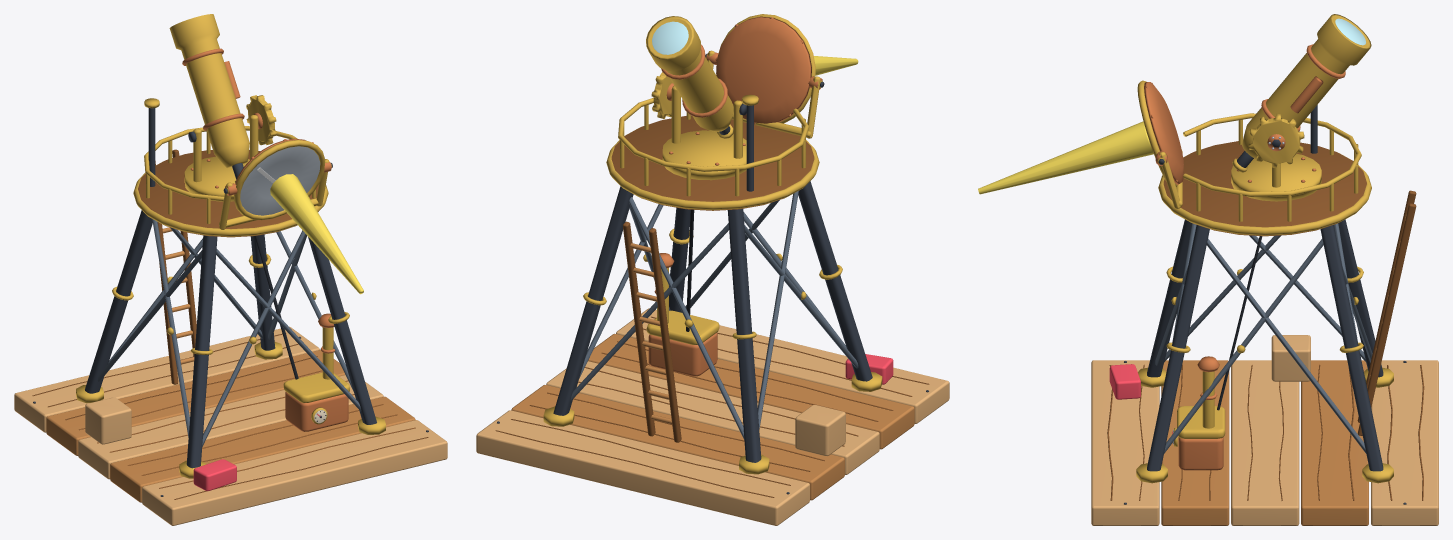
The model's file is SunMirrorTower_T2.fbx.
The picture shows the model from 3 angles, left to right: view 1: azimuth 30°, elevation 25°; view 2: azimuth 150°, elevation 25°; view 3: azimuth 270°, elevation 25°; orthographic projection. The views are drawn at different scales.
Parts seen in each view (by area): view 1: SunMirrorTowerT2Deck, SunMirrorTowerT2Tower, SunMirrorTowerT2Telescope, SunMirrorTowerT2Platform, SunMirrorTowerT2Braces, SunMirrorTowerT2Mirror, SunMirrorTowerT2Engine, SunMirrorTowerT2BeamGlow, SunMirrorTowerT2MirrorFork, SunMirrorTowerT2TelescopeGear; view 2: SunMirrorTowerT2Deck, SunMirrorTowerT2Tower, SunMirrorTowerT2Platform, SunMirrorTowerT2Telescope, SunMirrorTowerT2Mirror, SunMirrorTowerT2Braces, SunMirrorTowerT2Engine, SunMirrorTowerT2MirrorFork, SunMirrorTowerT2TelescopeGlow, SunMirrorTowerT2TelescopeGear, SunMirrorTowerT2BeamGlow; view 3: SunMirrorTowerT2Deck, SunMirrorTowerT2Tower, SunMirrorTowerT2Platform, SunMirrorTowerT2Telescope, SunMirrorTowerT2Braces, SunMirrorTowerT2Engine, SunMirrorTowerT2BeamGlow, SunMirrorTowerT2Mirror, SunMirrorTowerT2TelescopeGear, SunMirrorTowerT2MirrorFork.
Boxes of the visible parts, bbox=[...] form: SunMirrorTowerT2Deck: bbox=[14, 326, 447, 525]; SunMirrorTowerT2Tower: bbox=[76, 149, 385, 478]; SunMirrorTowerT2Telescope: bbox=[169, 14, 258, 201]; SunMirrorTowerT2Platform: bbox=[133, 98, 328, 237]; SunMirrorTowerT2Braces: bbox=[97, 219, 361, 446]; SunMirrorTowerT2Mirror: bbox=[234, 138, 325, 220]; SunMirrorTowerT2Engine: bbox=[255, 235, 349, 431]; SunMirrorTowerT2BeamGlow: bbox=[270, 174, 363, 294]; SunMirrorTowerT2MirrorFork: bbox=[219, 159, 332, 229]; SunMirrorTowerT2TelescopeGear: bbox=[246, 95, 276, 145]; SunMirrorTowerT2Deck: bbox=[476, 308, 949, 525]; SunMirrorTowerT2Tower: bbox=[543, 181, 882, 474]; SunMirrorTowerT2Platform: bbox=[606, 94, 819, 210]; SunMirrorTowerT2Telescope: bbox=[646, 16, 746, 180]; SunMirrorTowerT2Mirror: bbox=[715, 14, 815, 124]; SunMirrorTowerT2Braces: bbox=[570, 191, 858, 439]; SunMirrorTowerT2Engine: bbox=[646, 209, 719, 376]; SunMirrorTowerT2MirrorFork: bbox=[705, 50, 824, 138]; SunMirrorTowerT2TelescopeGlow: bbox=[652, 21, 688, 54]; SunMirrorTowerT2TelescopeGear: bbox=[651, 72, 674, 118]; SunMirrorTowerT2BeamGlow: bbox=[813, 56, 858, 75]; SunMirrorTowerT2Deck: bbox=[1091, 335, 1438, 525]; SunMirrorTowerT2Tower: bbox=[1136, 190, 1416, 483]; SunMirrorTowerT2Platform: bbox=[1158, 105, 1371, 236]; SunMirrorTowerT2Telescope: bbox=[1231, 14, 1371, 201]; SunMirrorTowerT2Braces: bbox=[1155, 223, 1372, 453]; SunMirrorTowerT2Engine: bbox=[1172, 236, 1262, 470]; SunMirrorTowerT2BeamGlow: bbox=[978, 121, 1153, 194]; SunMirrorTowerT2Mirror: bbox=[1137, 80, 1183, 186]; SunMirrorTowerT2TelescopeGear: bbox=[1248, 113, 1304, 167]; SunMirrorTowerT2MirrorFork: bbox=[1155, 103, 1182, 208].
Bounding box in the file's own units: 200 × 275 × 264.
